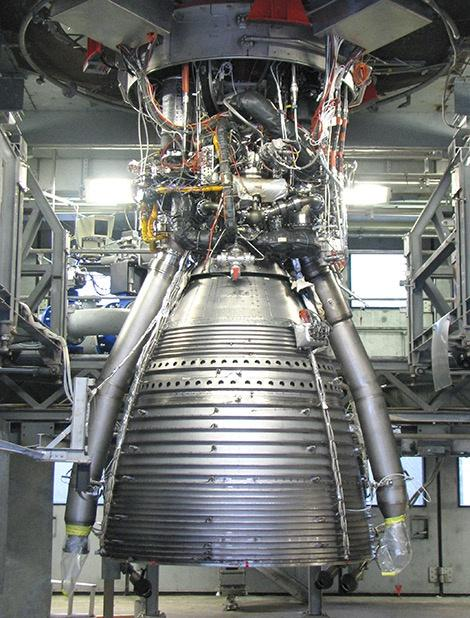thruster: (93, 254, 383, 570)
